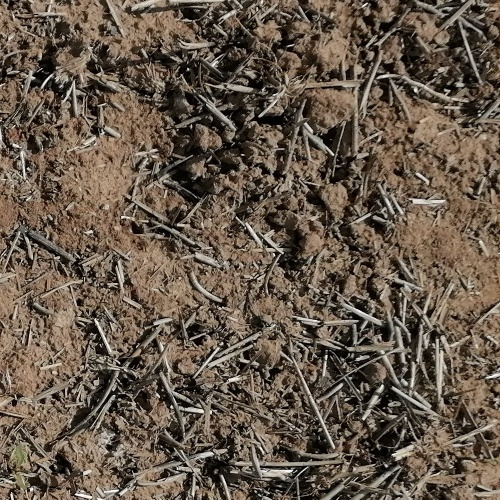beet: (11, 443, 29, 495)
